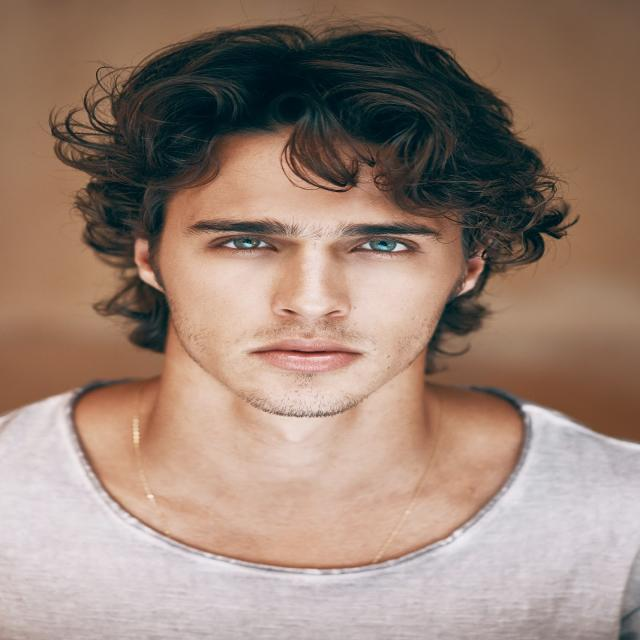front: (168, 192, 456, 388)
